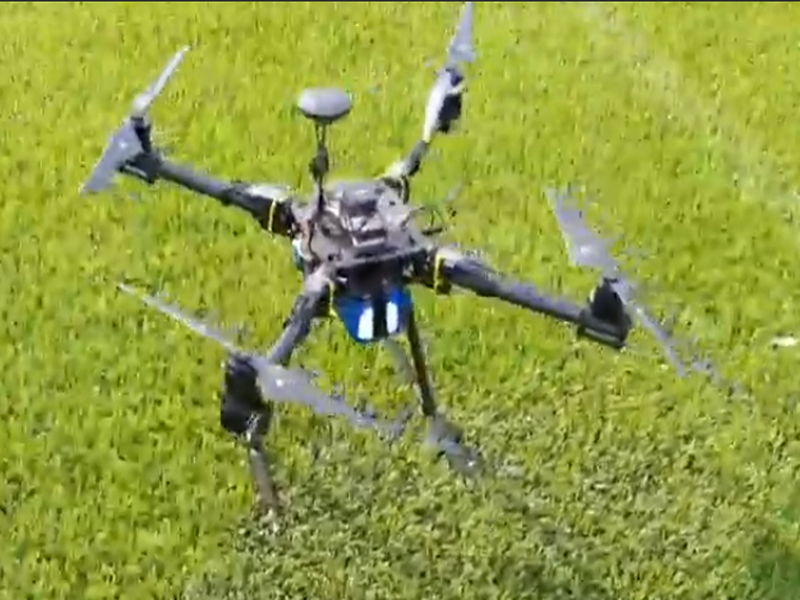enemy: (126, 63, 628, 523)
